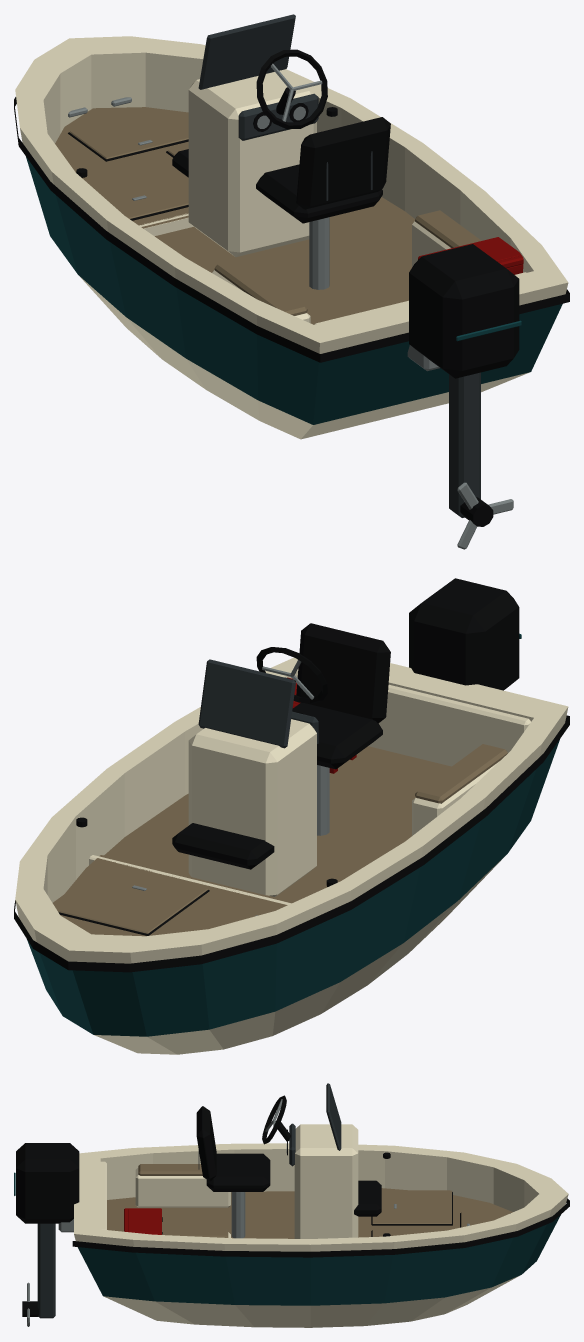
File: fishing_boat_b.glb
3 renders of one model, top to bottom at view 1: azimuth 30°, elevation 25°; view 2: azimuth 150°, elevation 25°; view 3: azimuth 270°, elevation 25°, orthographic. The views are drawn at different scales.
Visible parts, largest first — view 1: Boat_Hull_Deck_Fittings, Outboard_Cowling.004, Steering_Wheel, Boat_Cooler_Lid; view 2: Boat_Hull_Deck_Fittings, Outboard_Cowling.004, Steering_Wheel; view 3: Boat_Hull_Deck_Fittings, Outboard_Cowling.004, Boat_Cooler_Lid, Steering_Wheel.
Part boxes in pixels (x1,y1,x2,y2): Boat_Hull_Deck_Fittings: [14, 14, 569, 549]; Outboard_Cowling.004: [409, 244, 519, 378]; Steering_Wheel: [256, 49, 327, 129]; Boat_Cooler_Lid: [418, 237, 523, 268]; Boat_Hull_Deck_Fittings: [14, 623, 569, 1054]; Outboard_Cowling.004: [409, 578, 519, 690]; Steering_Wheel: [256, 647, 327, 703]; Boat_Hull_Deck_Fittings: [14, 1083, 569, 1327]; Outboard_Cowling.004: [16, 1143, 79, 1223]; Boat_Cooler_Lid: [124, 1208, 161, 1234]; Steering_Wheel: [262, 1095, 286, 1144].
Bounding box in the file's own units: 2.28 × 2.44 × 5.25.
1 material, 1 textured.
